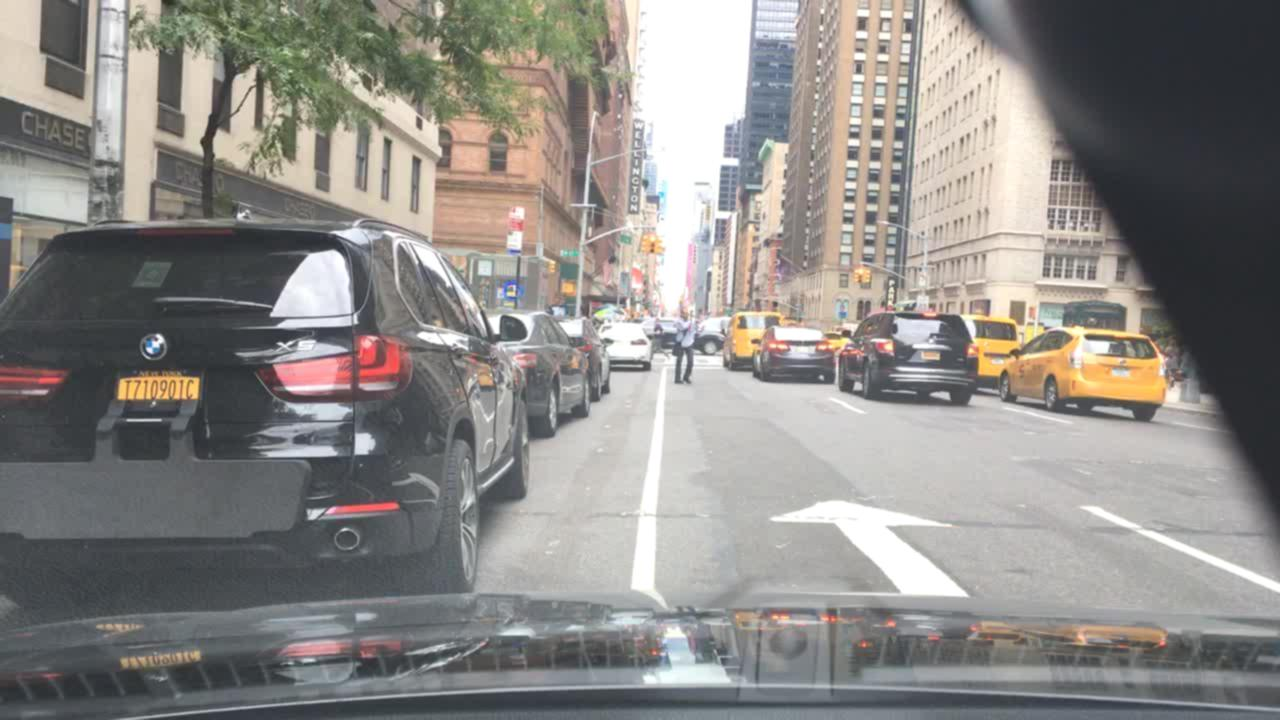Nissan: (1119, 358, 1132, 368)
bmw: (138, 331, 167, 362)
